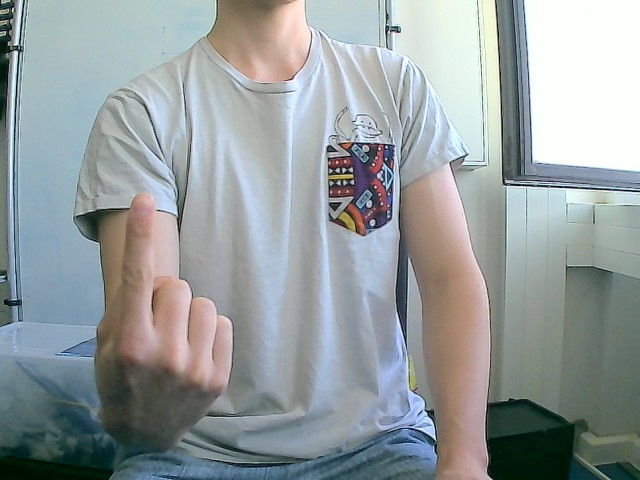up: (93, 191, 235, 453)
